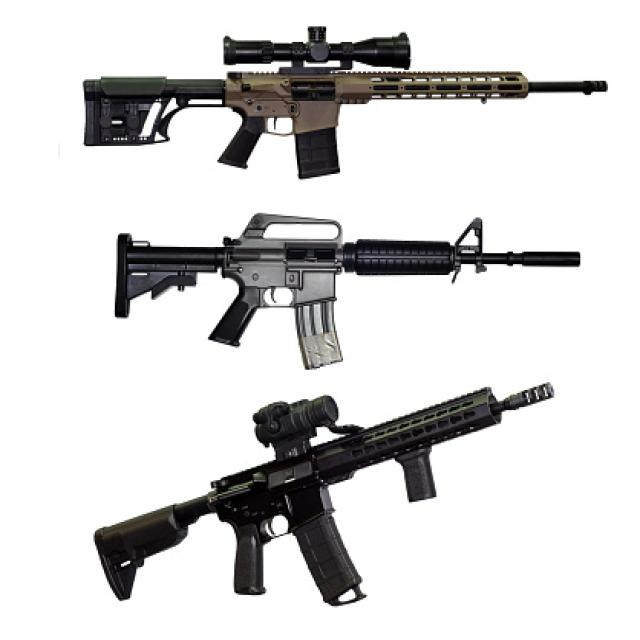Rifle: (93, 384, 556, 607), (83, 25, 609, 180), (115, 213, 583, 373)
